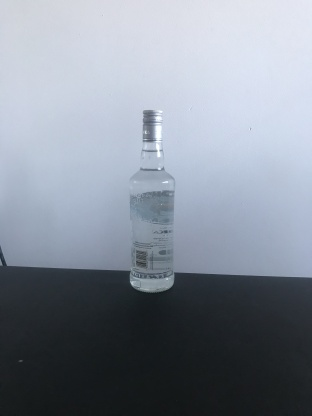nakretka: (141, 106, 164, 145)
